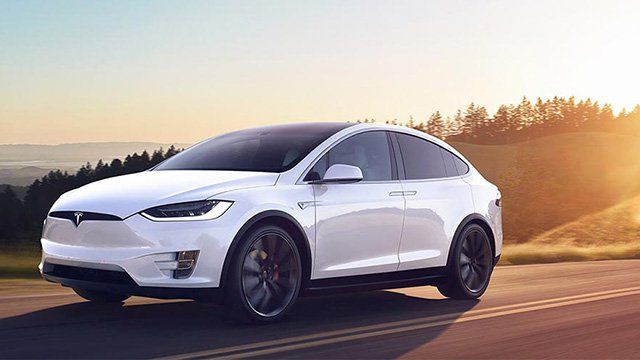car: (35, 123, 503, 323)
